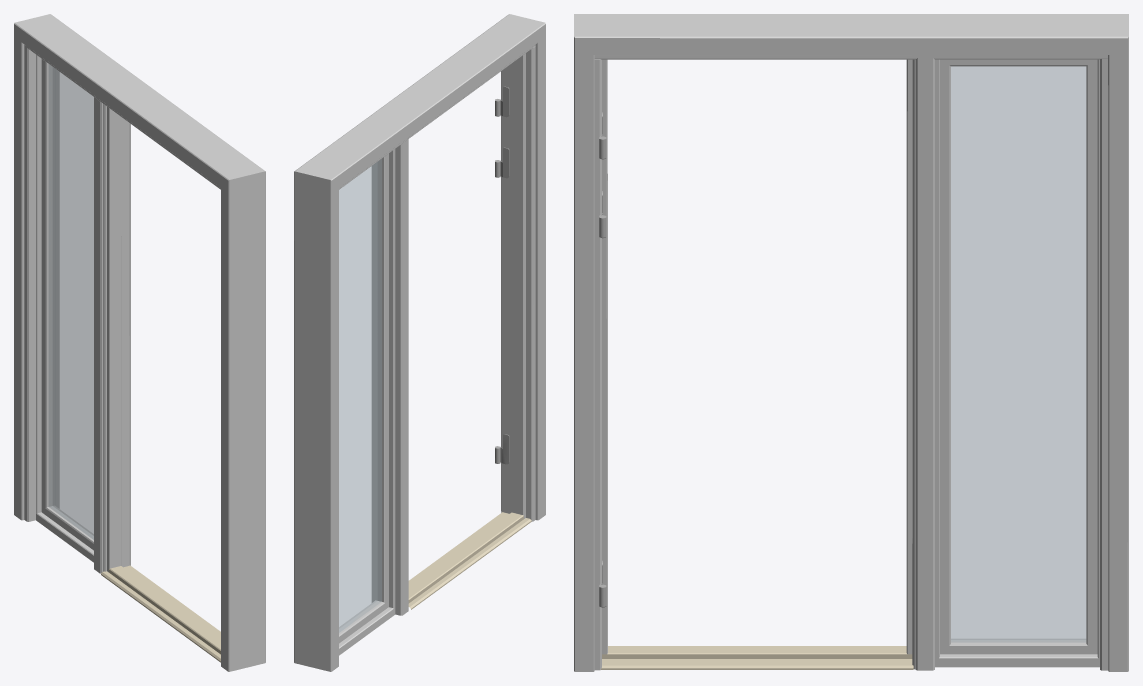
Rendered from ww_door_type_c_frame.fbx.
3 views of the same model, side by side, from view 1: azimuth 30°, elevation 25°; view 2: azimuth 150°, elevation 25°; view 3: azimuth 270°, elevation 25° (orthographic). The views are drawn at different scales.
Visible parts, largest first — view 1: generisk_dør_type_c_karm; view 2: generisk_dør_type_c_karm; view 3: generisk_dør_type_c_karm.
Part boxes in pixels (x1=…): generisk_dør_type_c_karm: x1=14, y1=14, x2=265, y2=671; generisk_dør_type_c_karm: x1=294, y1=14, x2=545, y2=671; generisk_dør_type_c_karm: x1=574, y1=14, x2=1128, y2=671.
Bounding box in the file's own units: 21.1 × 247 × 196.
